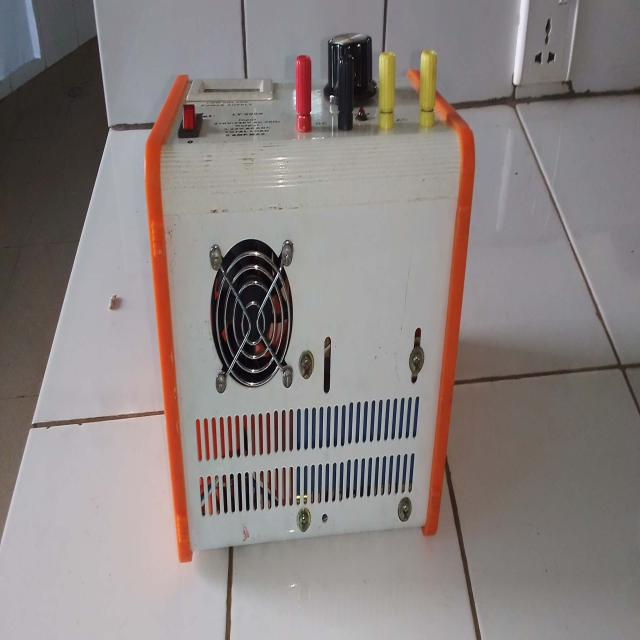Digital Power Supply: (138, 27, 485, 555)
